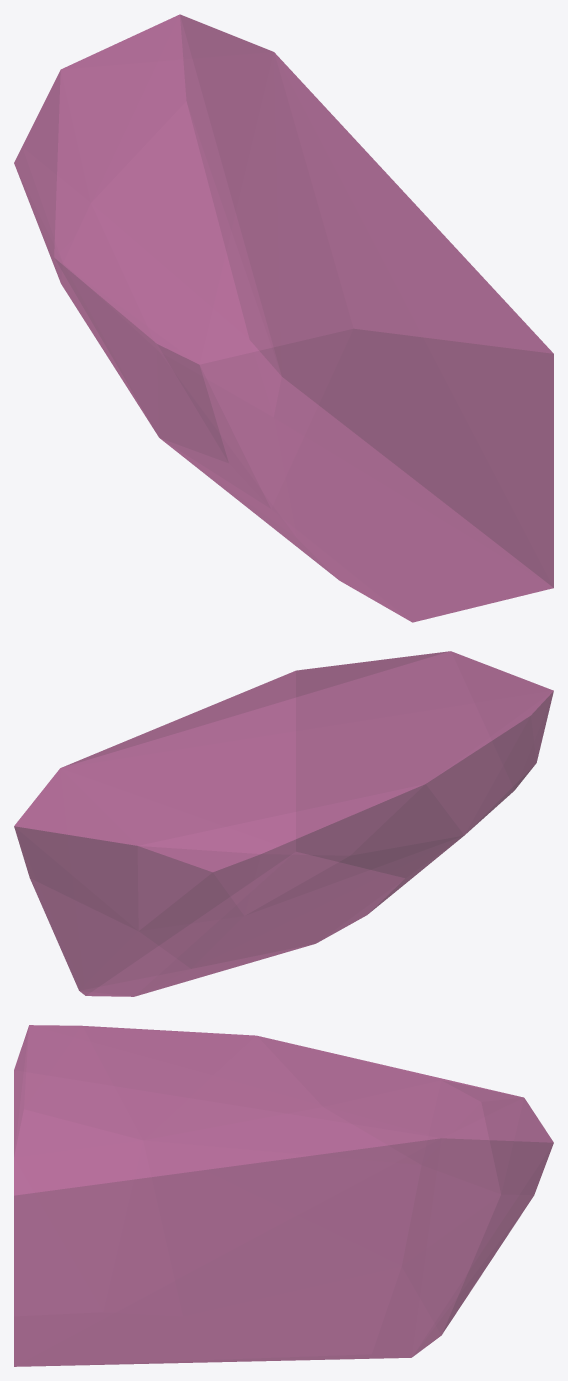
3 renders of one model, top to bottom at view 1: azimuth 30°, elevation 25°; view 2: azimuth 150°, elevation 25°; view 3: azimuth 270°, elevation 25°, orthographic. The views are drawn at different scales.
Parts seen in each view (by area): view 1: Shape_IndexedFaceSet.007_Shape_IndexedFaceSet.17985; view 2: Shape_IndexedFaceSet.007_Shape_IndexedFaceSet.17985; view 3: Shape_IndexedFaceSet.007_Shape_IndexedFaceSet.17985.
Part boxes in pixels (bbox=[...]): Shape_IndexedFaceSet.007_Shape_IndexedFaceSet.17985: bbox=[14, 14, 553, 622]; Shape_IndexedFaceSet.007_Shape_IndexedFaceSet.17985: bbox=[14, 651, 553, 996]; Shape_IndexedFaceSet.007_Shape_IndexedFaceSet.17985: bbox=[14, 1025, 553, 1366].
Size of the model in its own units: 0.2335 by 0.196 by 0.4116.
